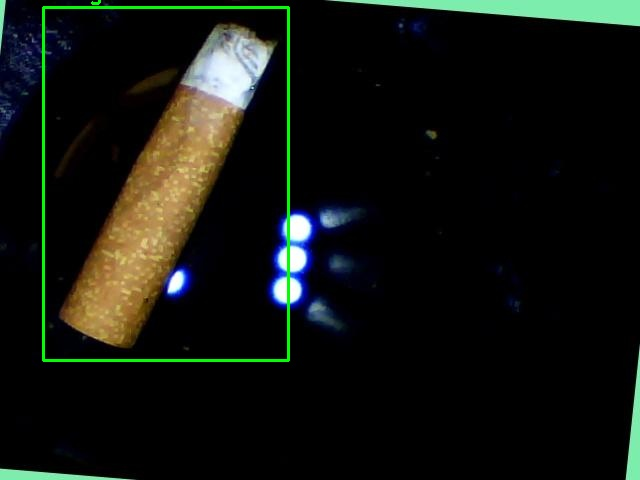megot: (43, 7, 288, 360)
